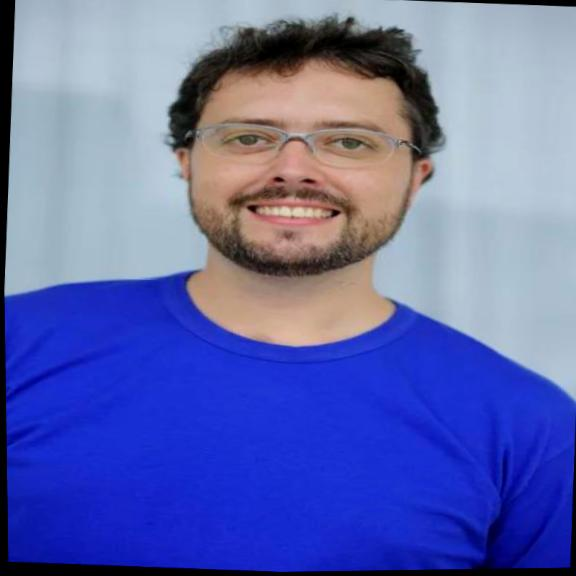no_safety_vest: (4, 259, 576, 576)
